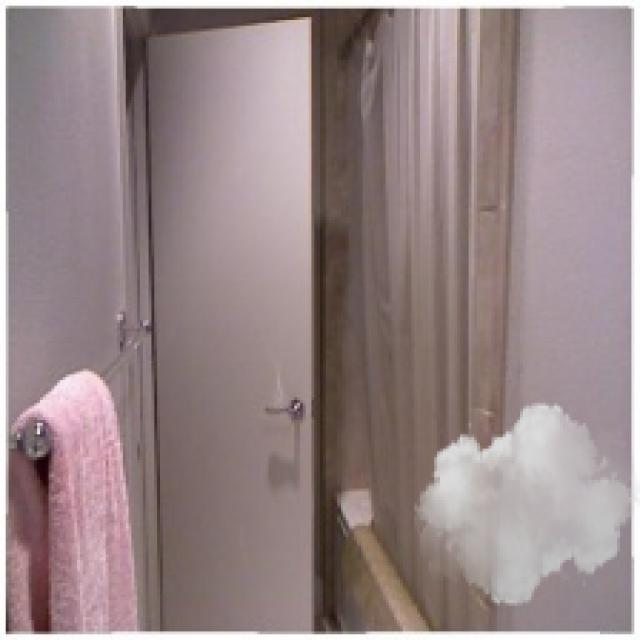smoke: (414, 394, 637, 617)
